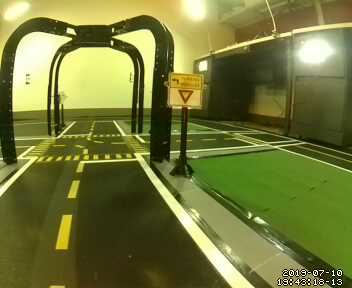Turn Yield: (168, 72, 203, 109)
